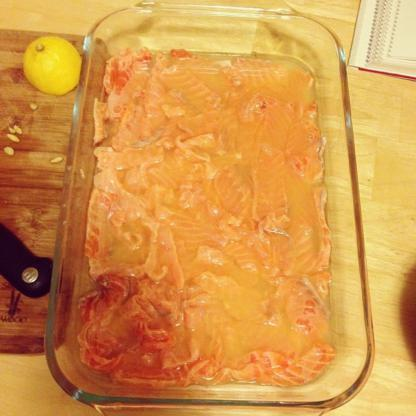lemon: (22, 36, 82, 96)
